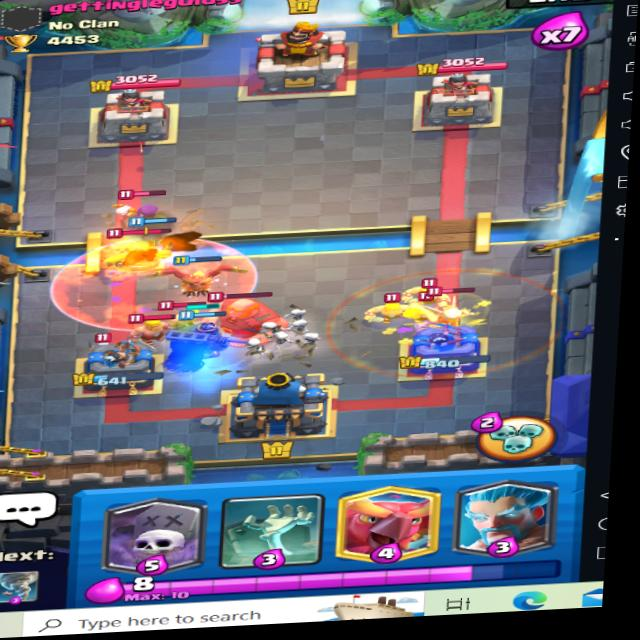barbarian: (129, 306, 178, 347), (370, 292, 422, 328), (406, 275, 462, 303)
battle-healer: (411, 276, 486, 330)
giant: (198, 287, 298, 349)
goblin-demolisher: (101, 228, 172, 278)
skeleton: (88, 327, 121, 350)
witch: (112, 191, 173, 236)
